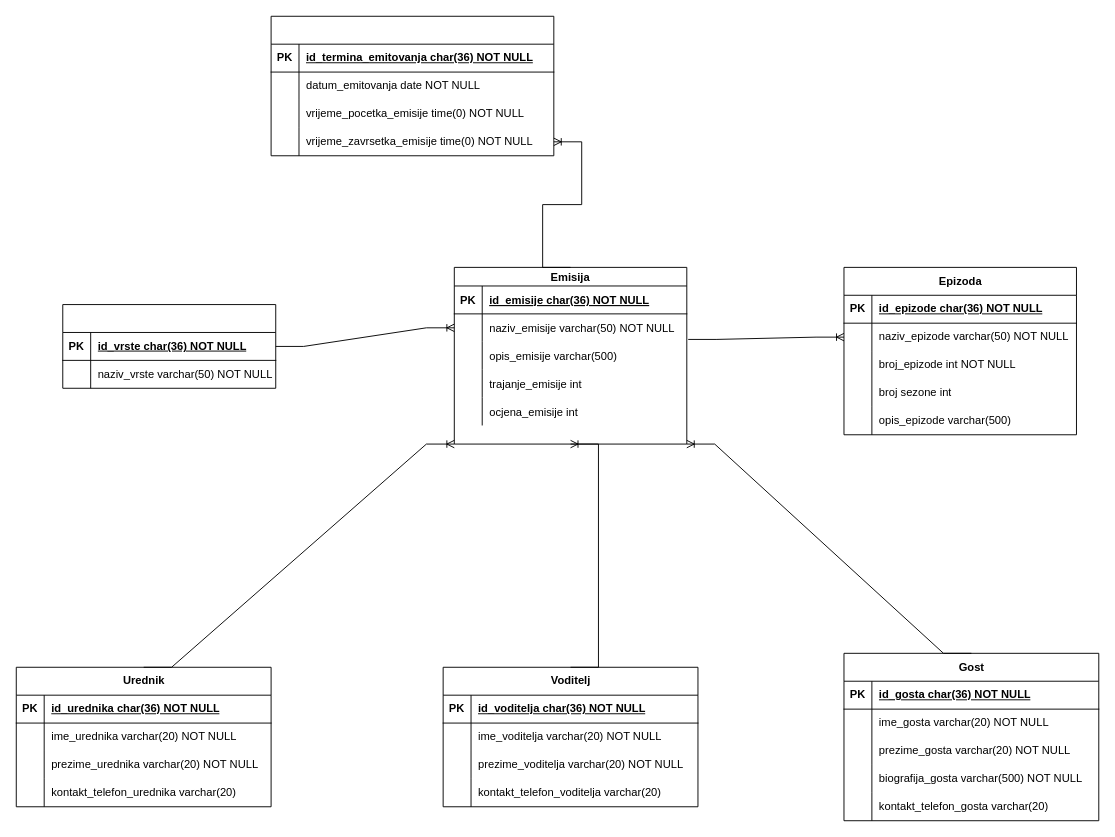
The diagram is 1115 pixels wide and 837 high, and some of its shapes have lost their labels. The box of each missing label's shape, as (x1, y1, x2, y2) in pixels:
Termin emitovanja: (270, 15, 554, 156)
Vrsta emisije: (62, 304, 276, 388)
